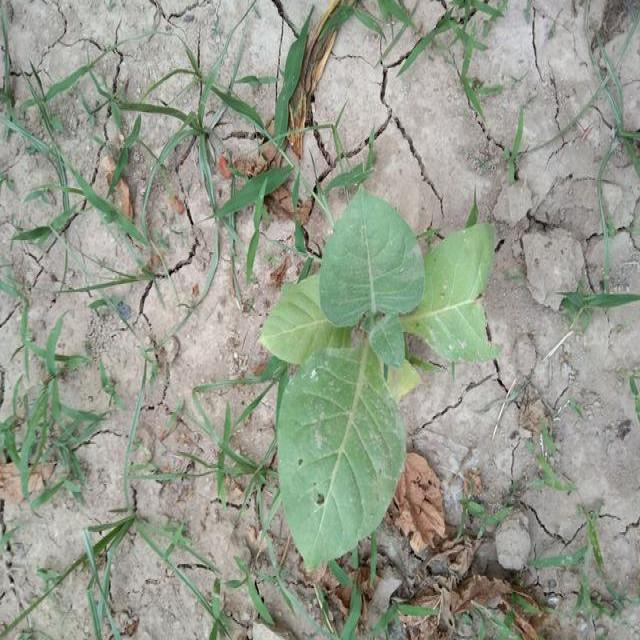crop: (262, 196, 493, 541)
